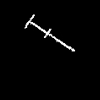double_crochet: (25, 15, 74, 50)
